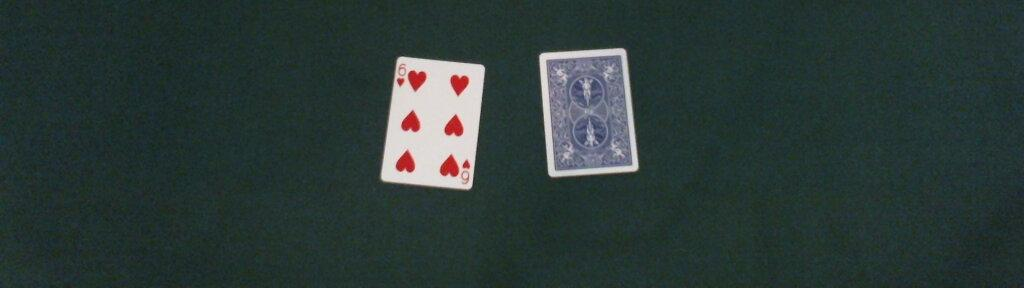back: (538, 46, 639, 178)
six: (380, 56, 485, 192)
